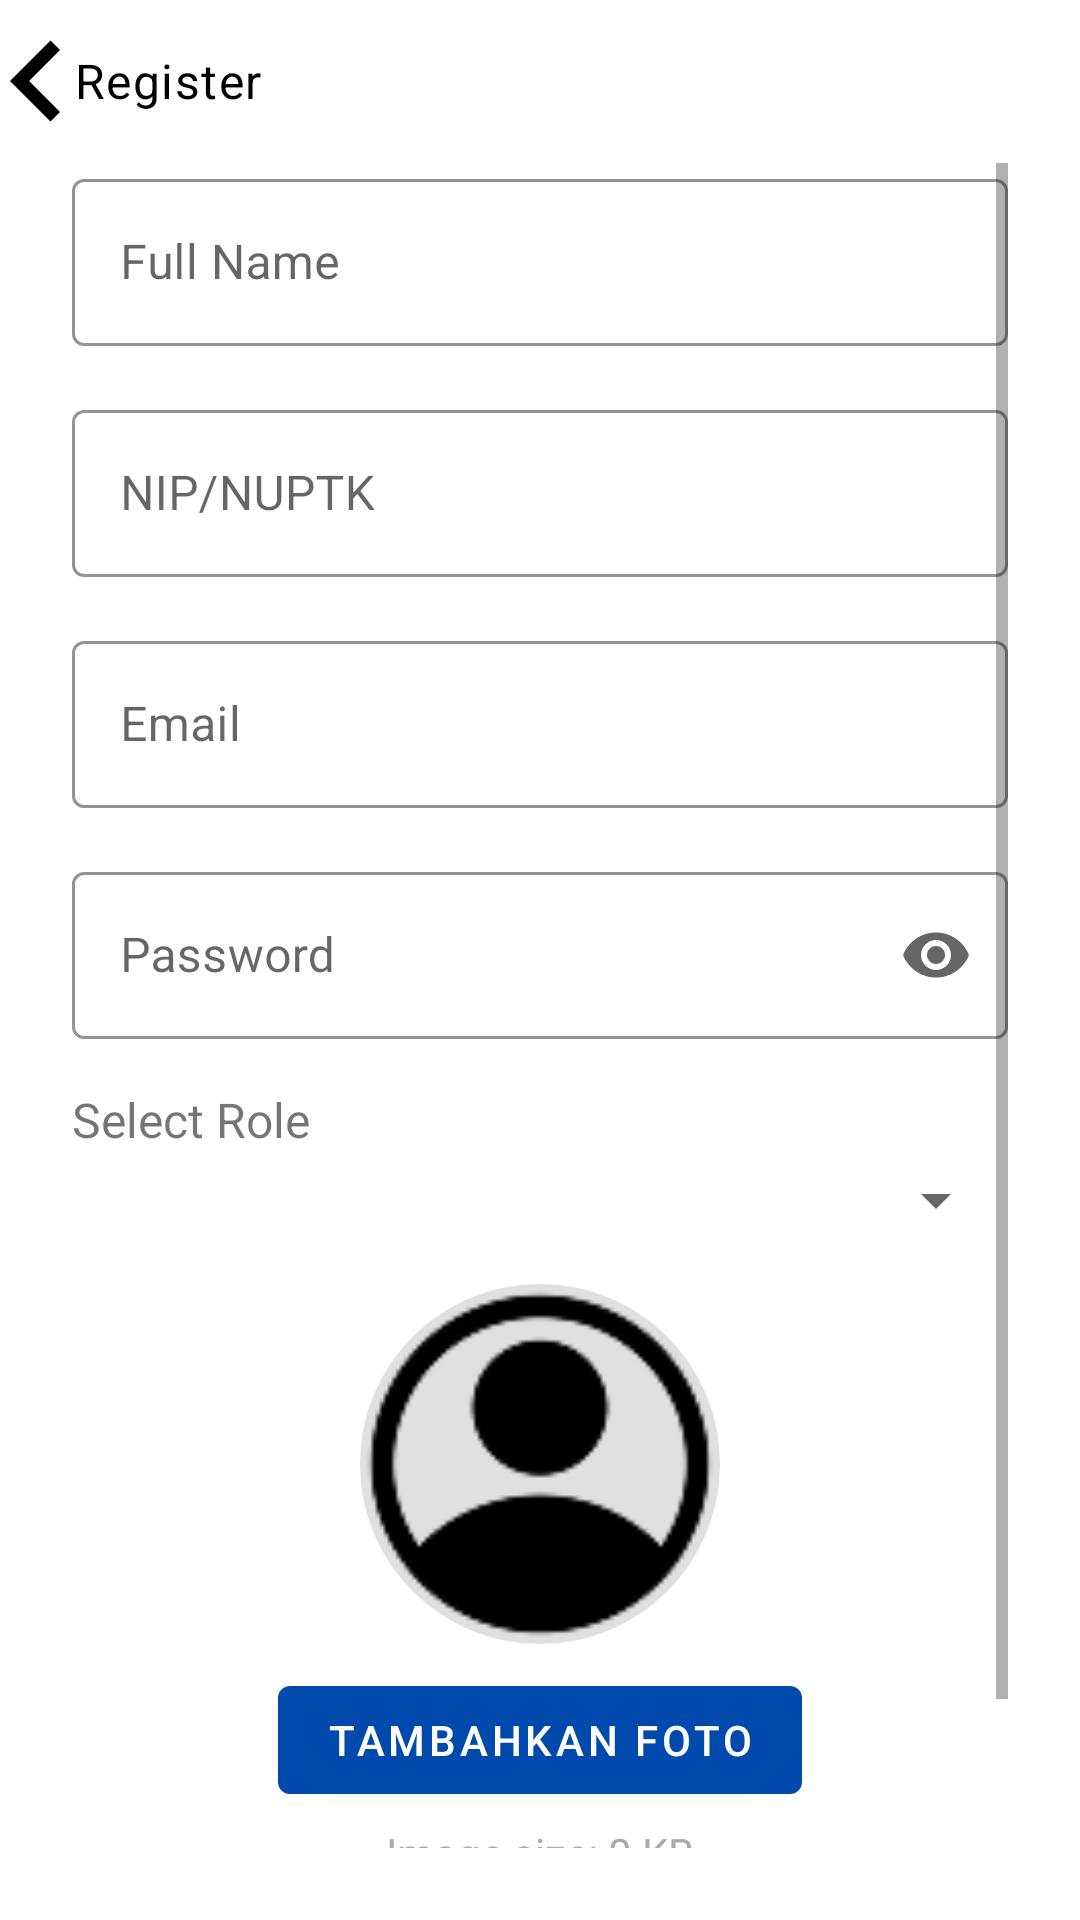

Icons on this 1080px×1920px Android screen, each with the point to tap as (x=x, y=y):
account: (x=540, y=1464)
